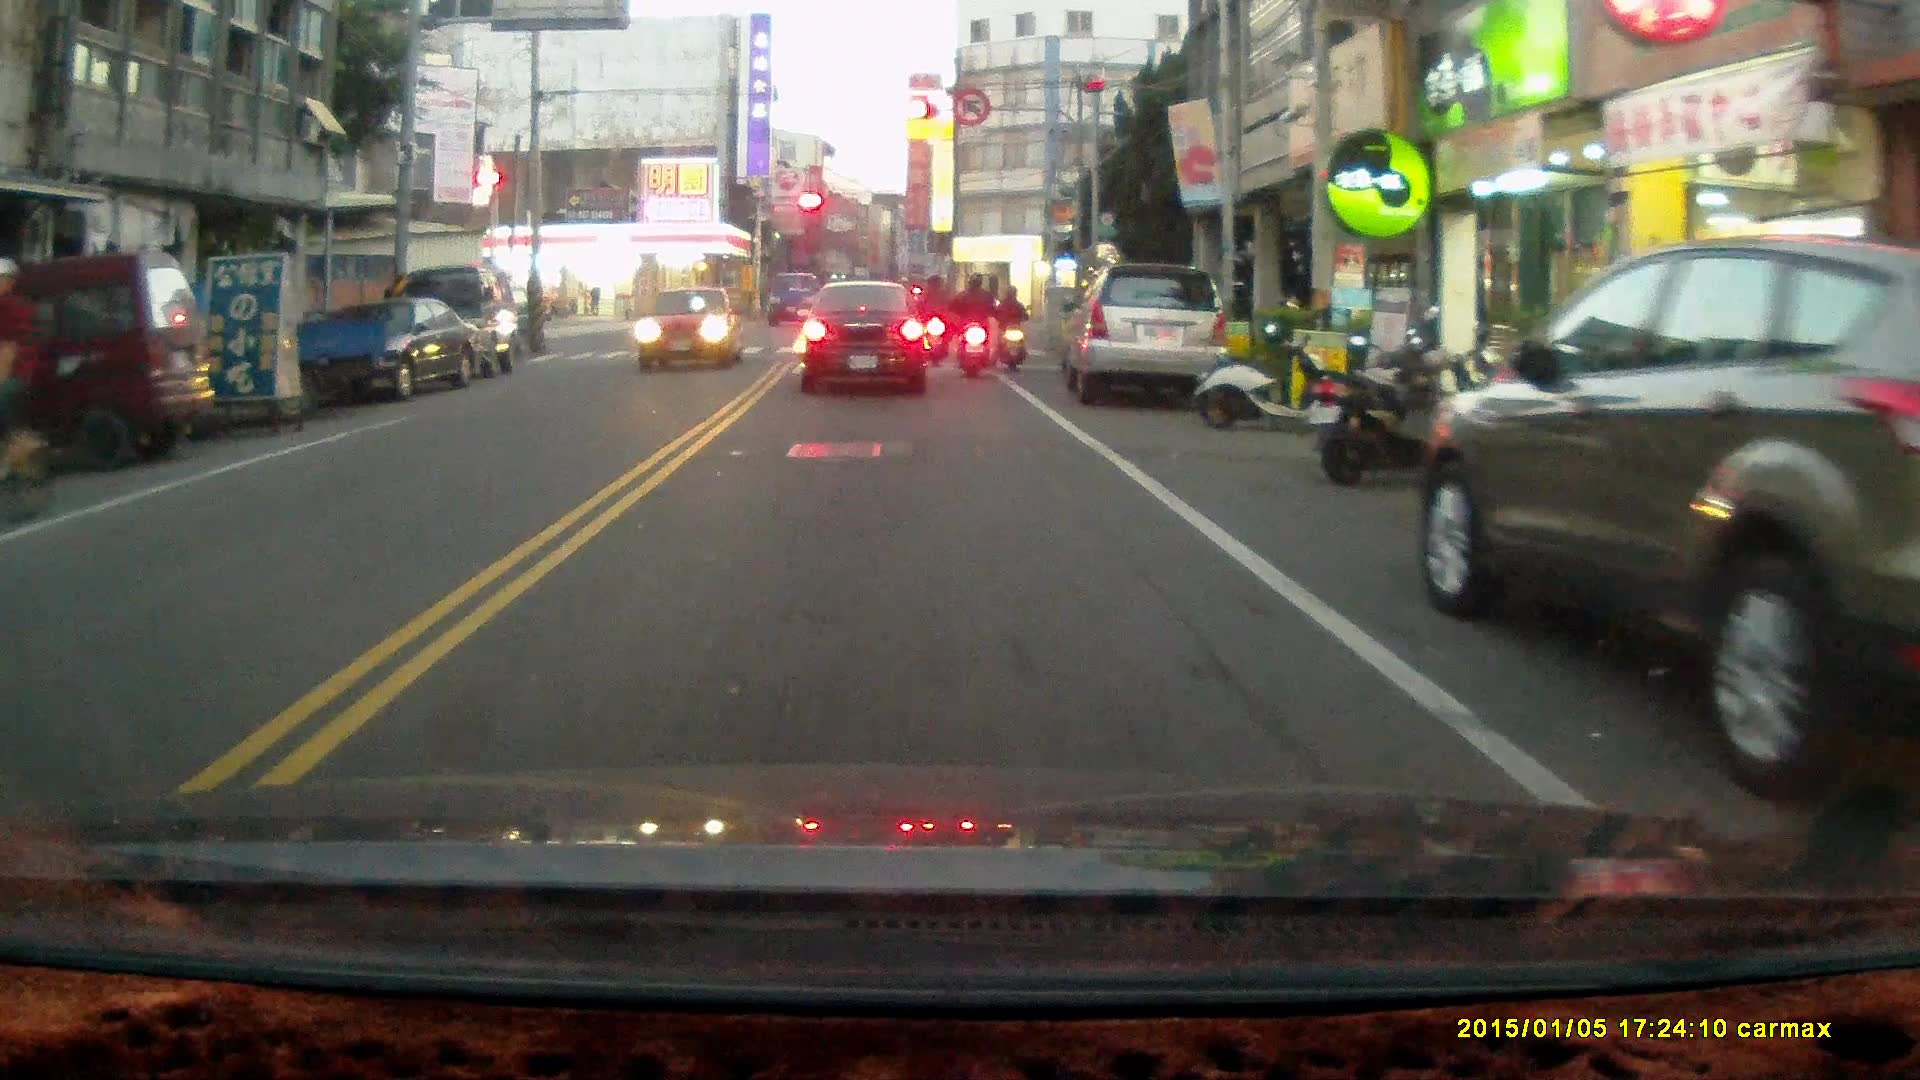rider: (0, 252, 58, 526), (950, 270, 999, 378), (916, 271, 951, 366), (995, 284, 1027, 373)
vehicle: (1425, 233, 1920, 818), (1, 250, 219, 476), (1058, 259, 1235, 412), (286, 293, 490, 402), (801, 277, 935, 395), (396, 260, 524, 382), (637, 284, 741, 370)
